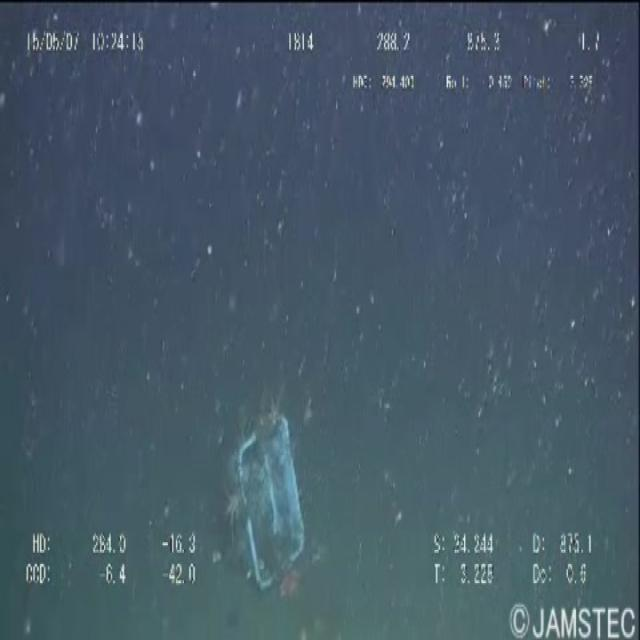Cutlery: (216, 395, 325, 599)
